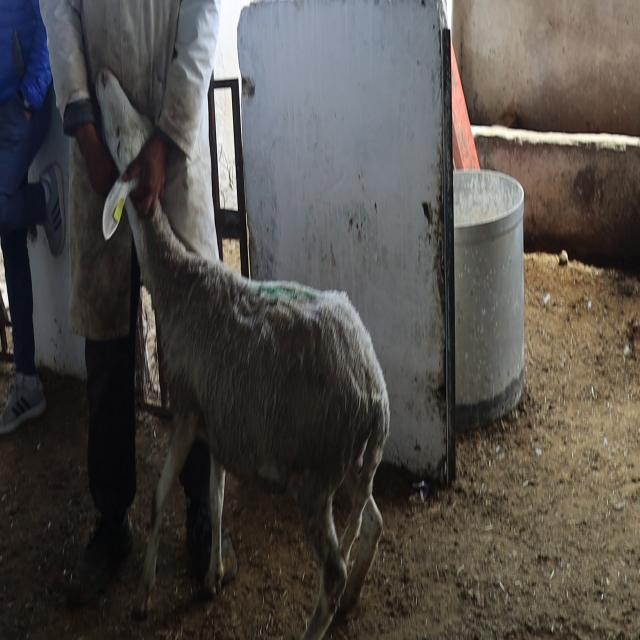Score_1: (96, 69, 390, 639)
